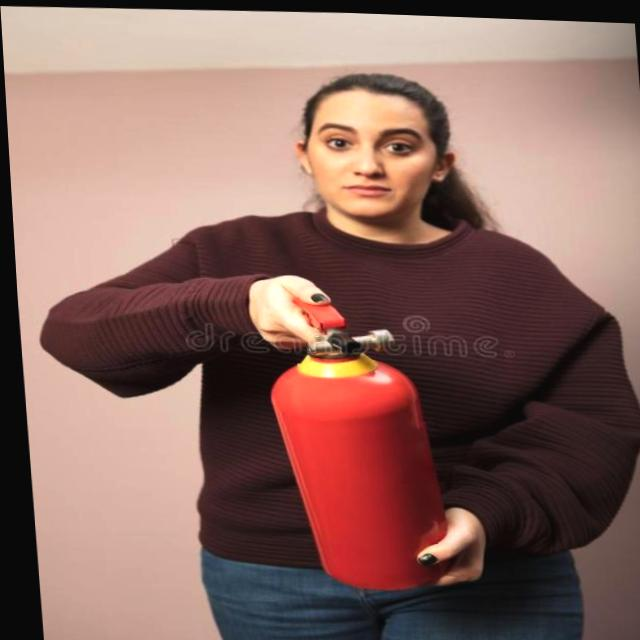FireExtinguisher: (251, 284, 454, 596)
